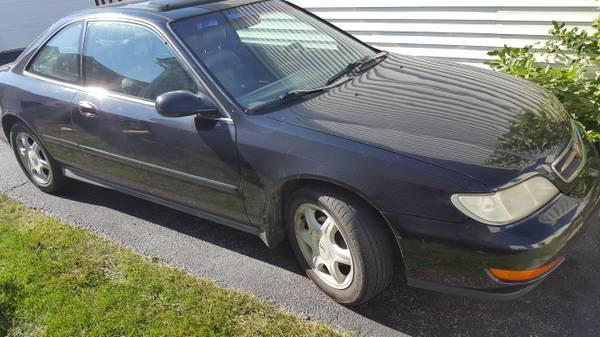acura: (1, 1, 587, 323)
